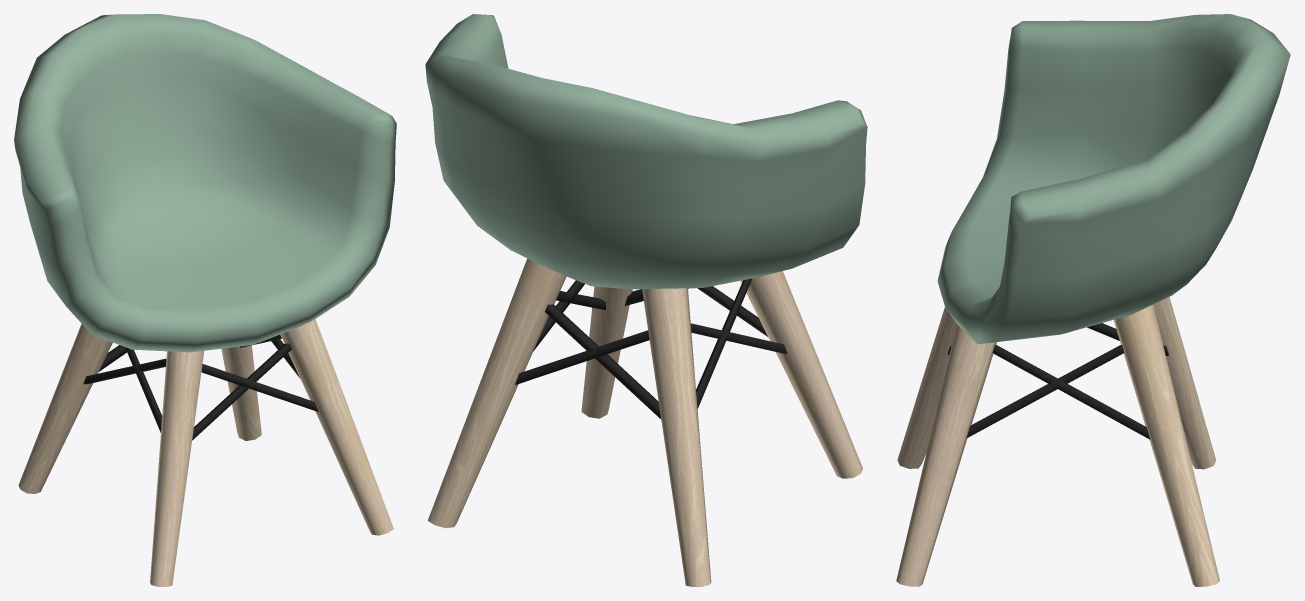
Rendered from chair_034.fbx.
The picture shows the model from 3 angles, left to right: view 1: azimuth 30°, elevation 25°; view 2: azimuth 150°, elevation 25°; view 3: azimuth 270°, elevation 25°; orthographic projection. The views are drawn at different scales.
Visible parts, largest first — view 1: chair_034; view 2: chair_034; view 3: chair_034.
Boxes of the visible parts, left/top/right/bottom form: chair_034: left=14, top=14, right=396, bottom=586; chair_034: left=425, top=14, right=867, bottom=586; chair_034: left=896, top=14, right=1290, bottom=586.
Size of the model in its own units: 101 by 87.38 by 118.
